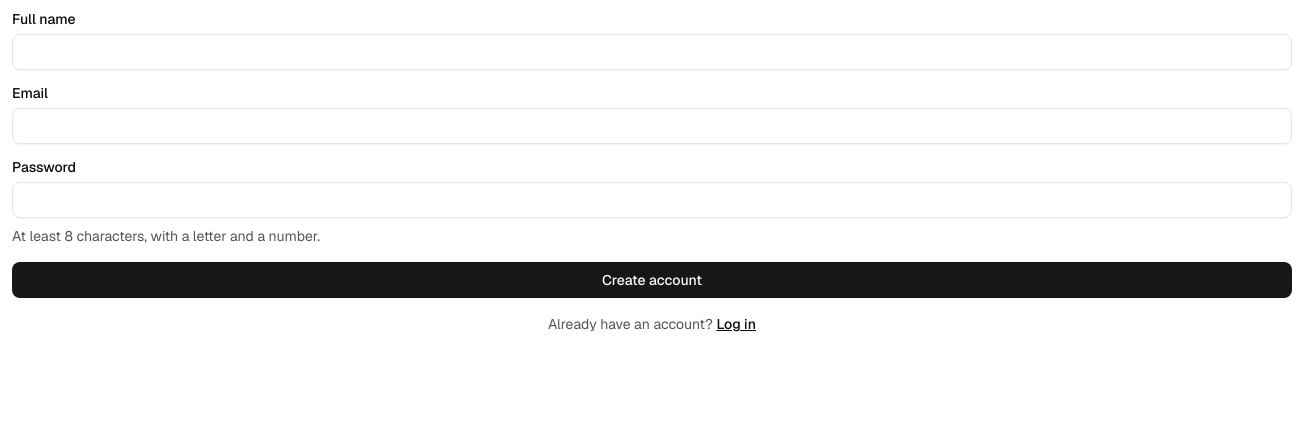
Test: RegisterForm › F01_AC2_ApplesServerFieldErrorToField
The width and height of the screenshot is (1304, 439).
Type "Ada" into the field labelled "Full name" at (652, 52), box [12,34,1292,70]
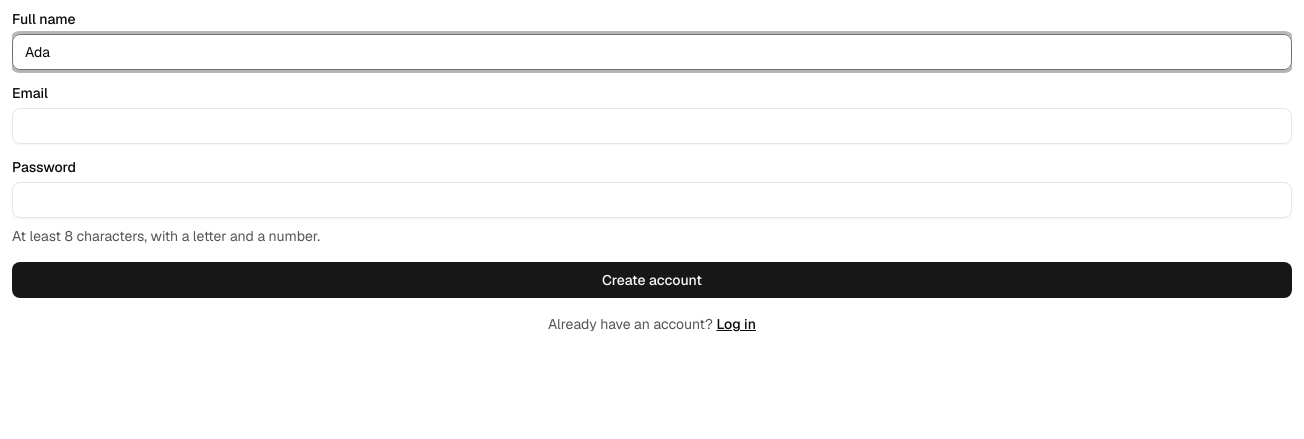
Type "ada@example.com" into the field labelled "Email" at (652, 126), box [12,108,1292,144]
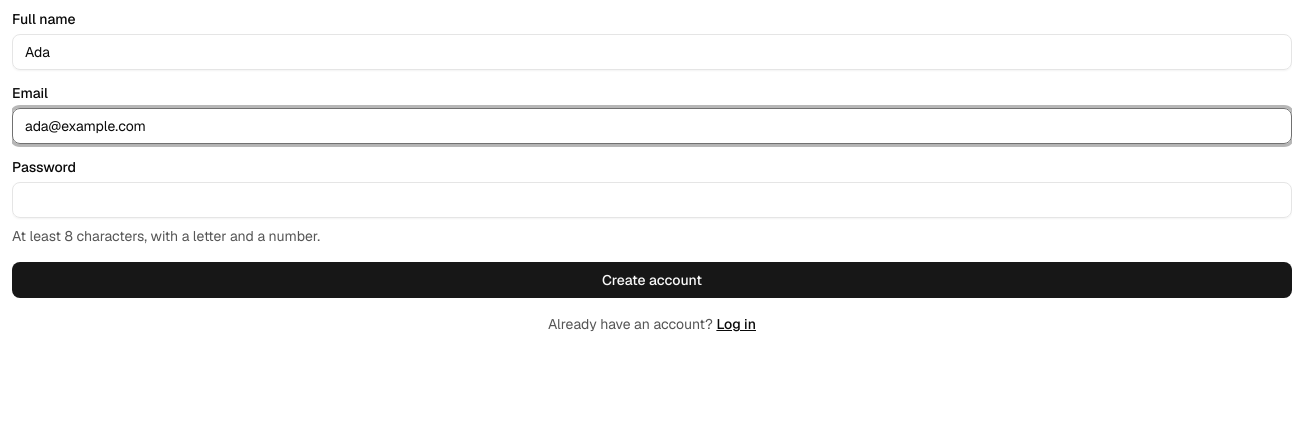
Type "Passw0rd!" into the password field labelled "Password" at (652, 200), box [12,182,1292,218]
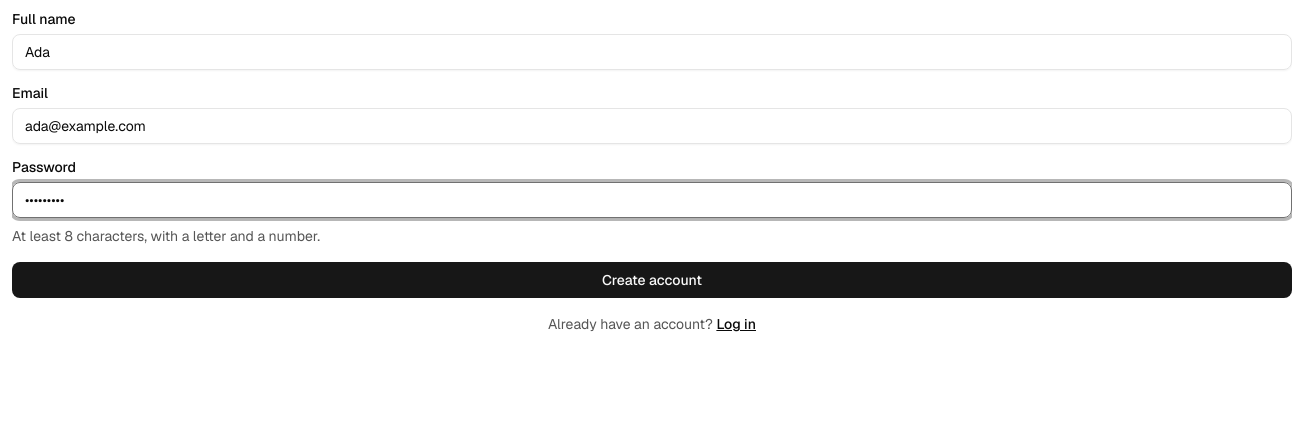
Click the button "Create account" at (652, 280), box [12,262,1292,298]
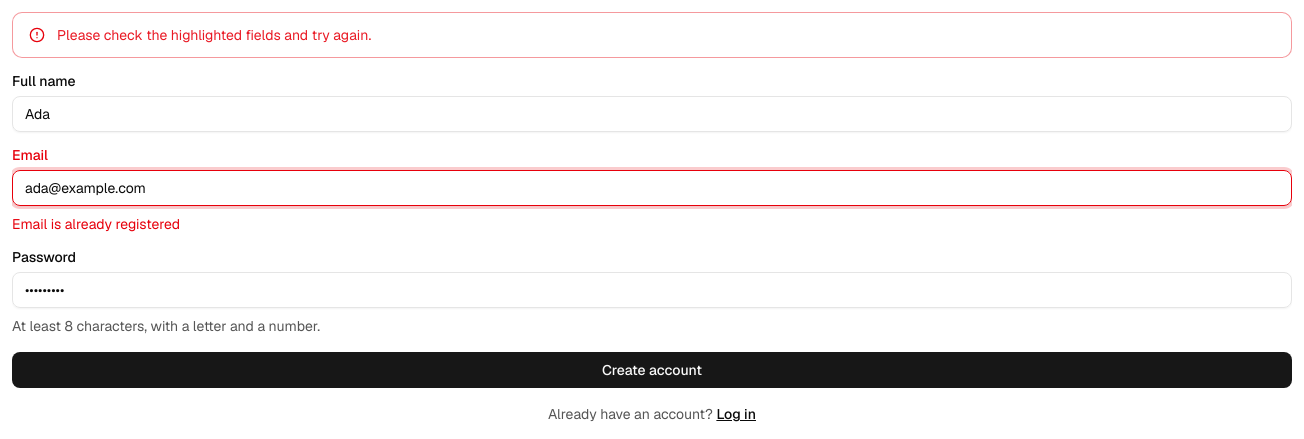
Result: the text "Email is already registered" is shown at [12,215,180,233]
